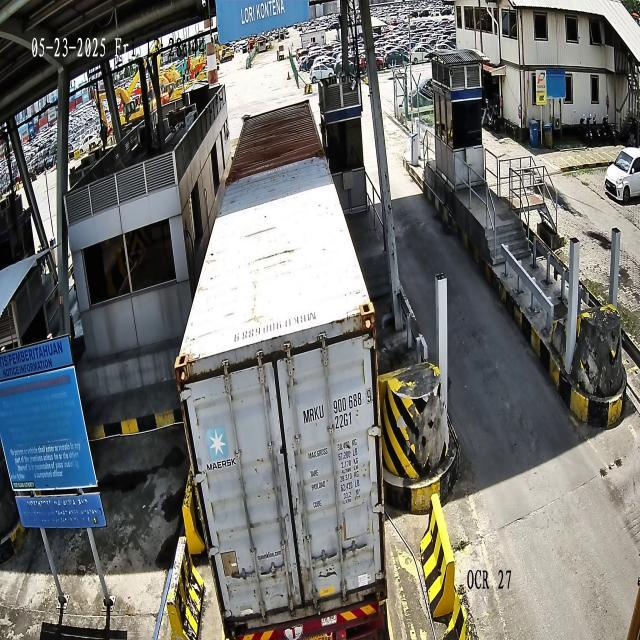ISO: (335, 410, 352, 430)
container_number: (302, 386, 372, 424)
